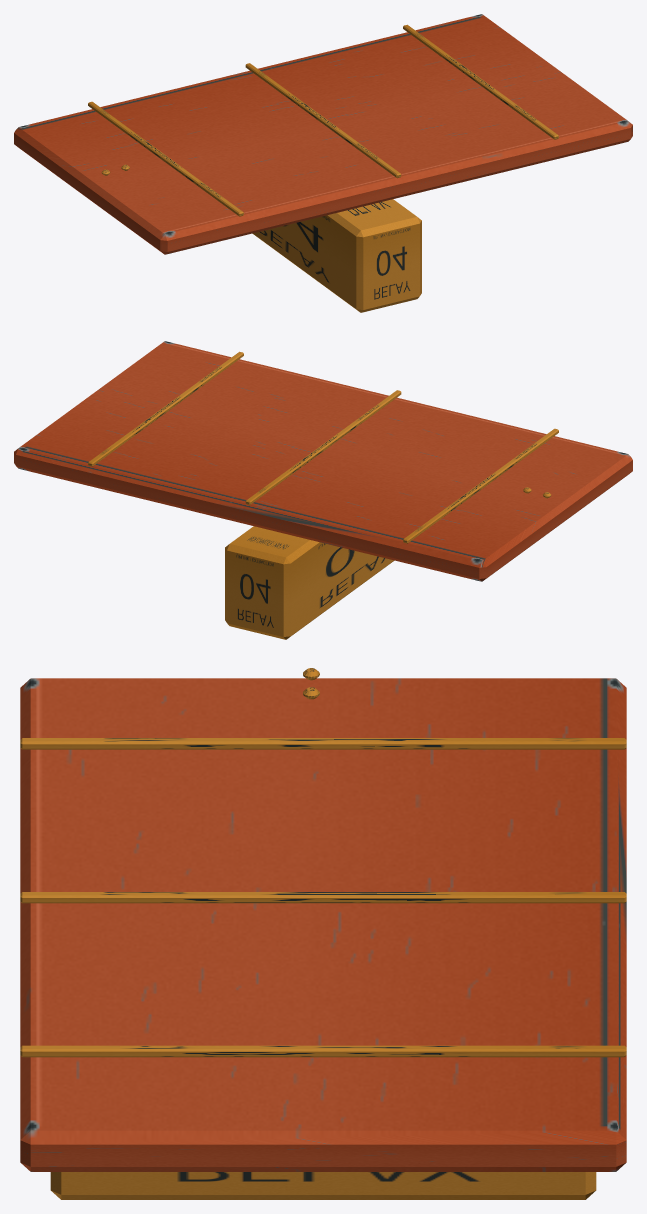
The model's file is solar_array_LOD0.obj.
3 views of the same model, one above another, from view 1: azimuth 30°, elevation 25°; view 2: azimuth 150°, elevation 25°; view 3: azimuth 270°, elevation 25° (orthographic). The views are drawn at different scales.
Visible parts, largest first — view 1: L02_solar_array_LOD0; view 2: L02_solar_array_LOD0; view 3: L02_solar_array_LOD0.
Part boxes in pixels (x1,y1,x2,y2): L02_solar_array_LOD0: [14, 14, 632, 312]; L02_solar_array_LOD0: [14, 341, 632, 639]; L02_solar_array_LOD0: [20, 668, 626, 1199].
Size of the model in its own units: 3.6 by 1.04 by 2.
Materials: 1 (1 with a texture image).
